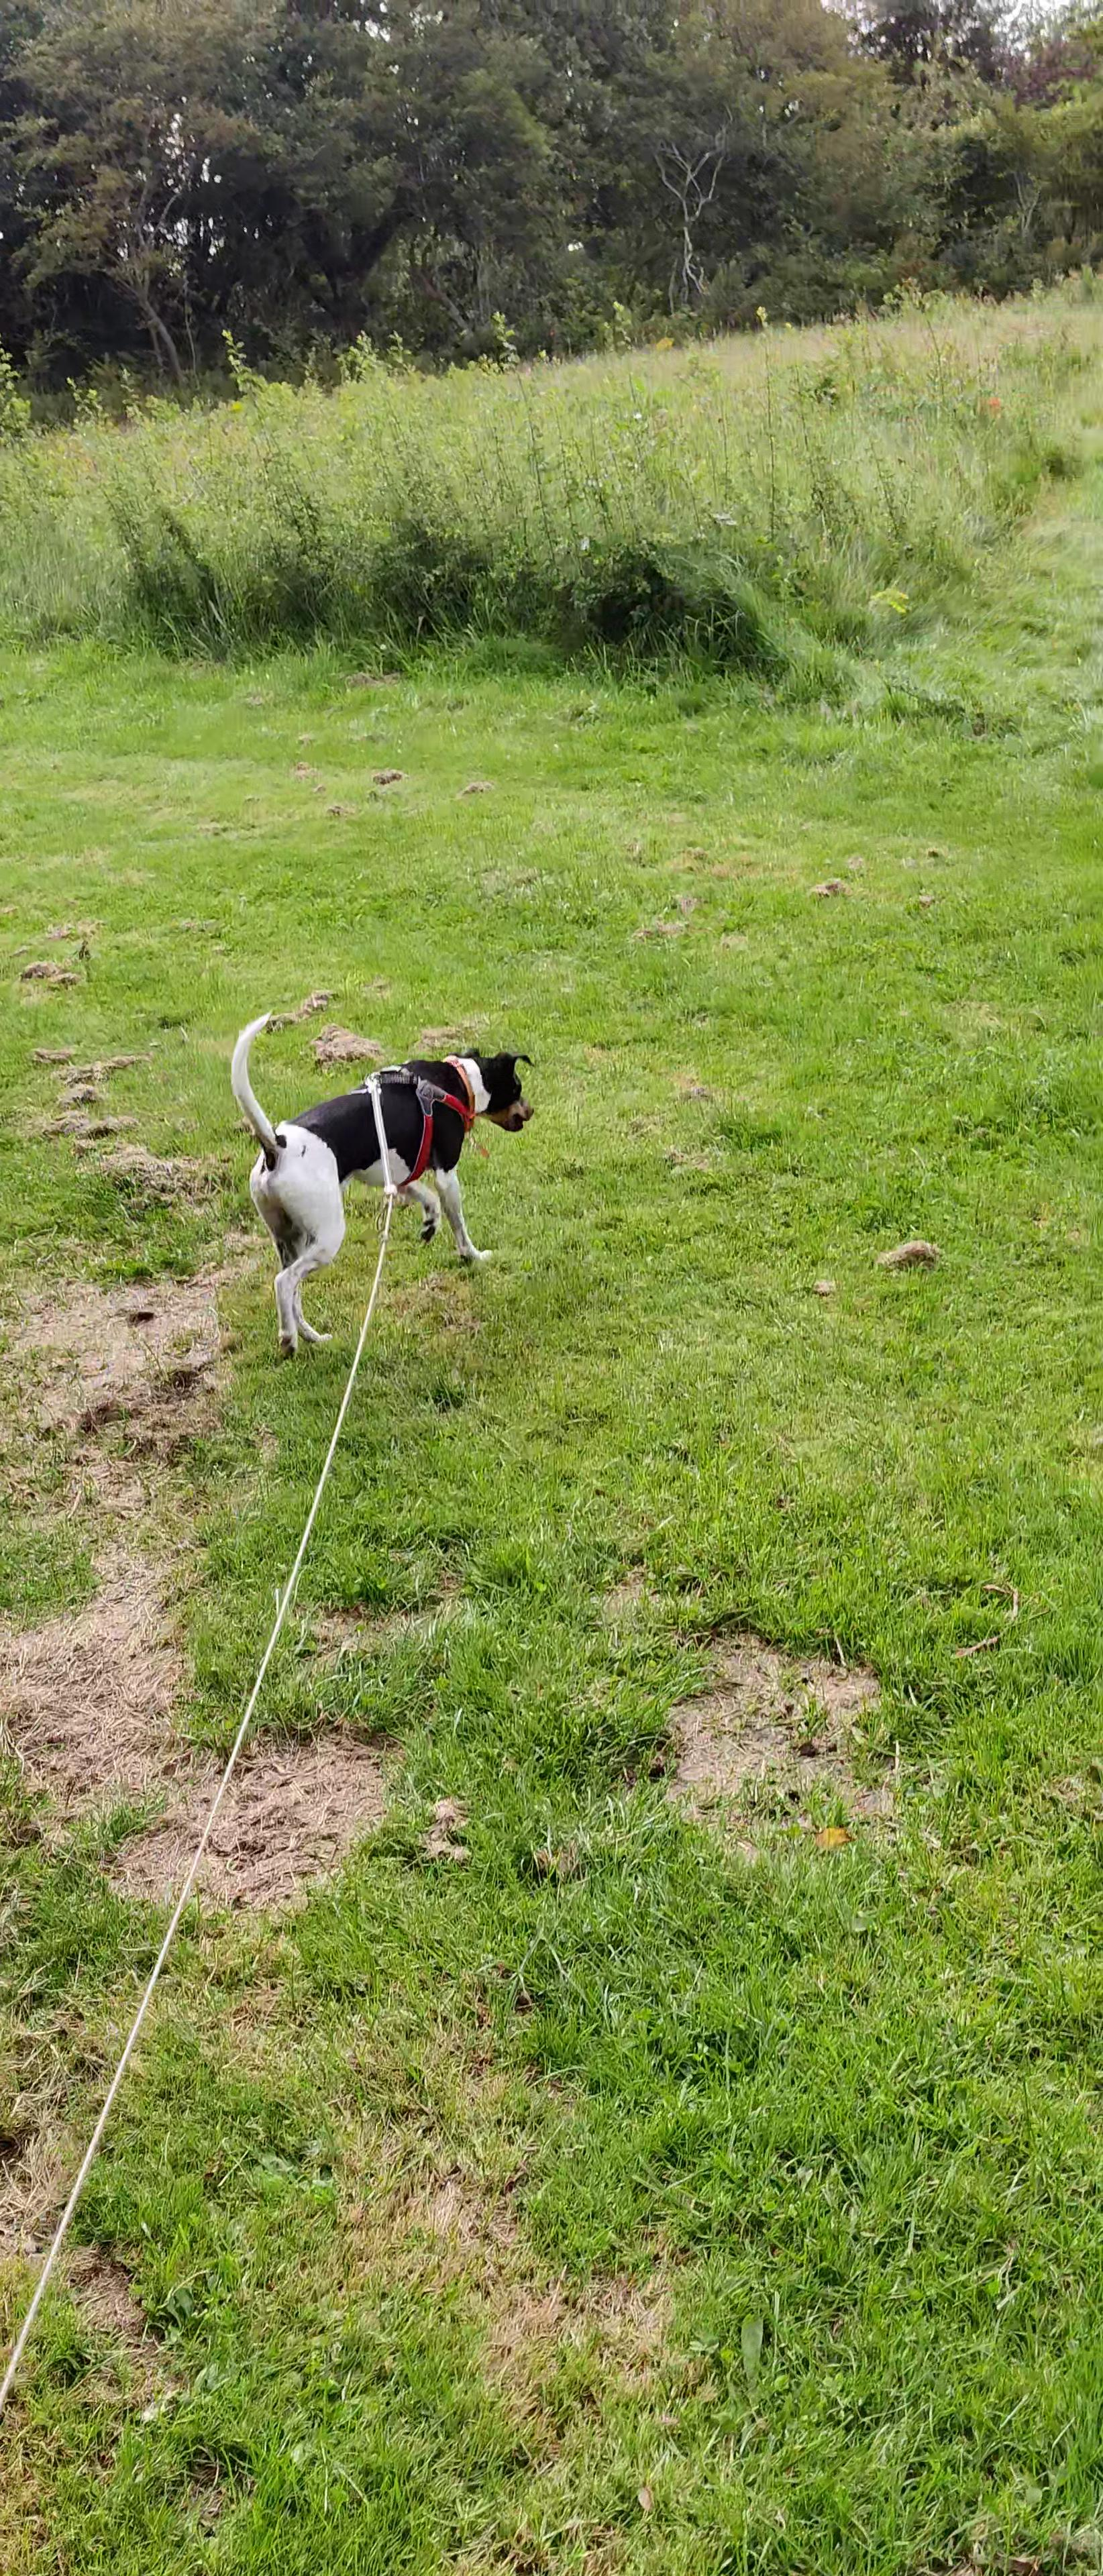Dog: (225, 1010, 541, 1362)
